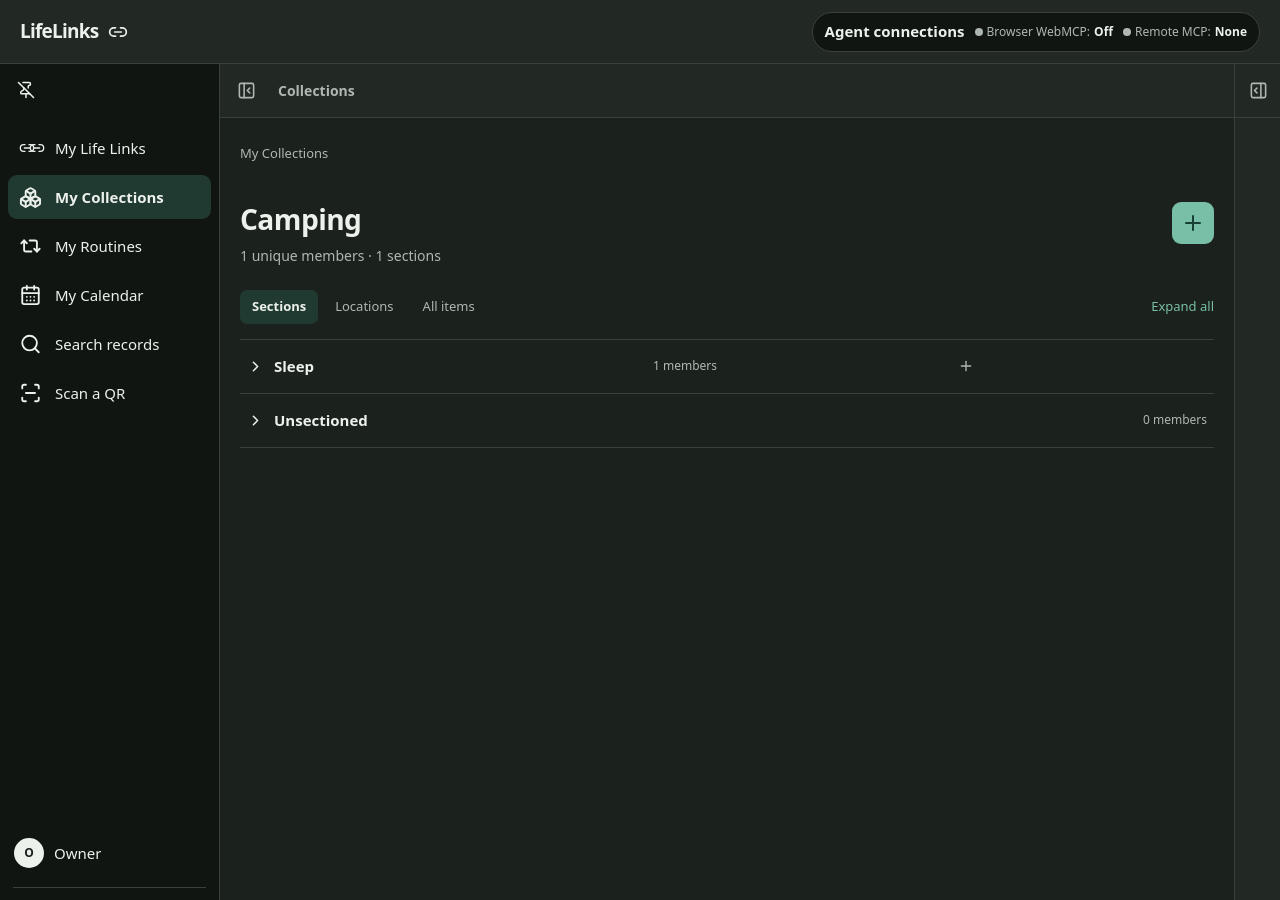
Scenario: Collection owner workspace › clears whole-membership selection when changing to a Section appearance view
Click the button "All items".
click(449, 307)  # box [411, 290, 487, 324]
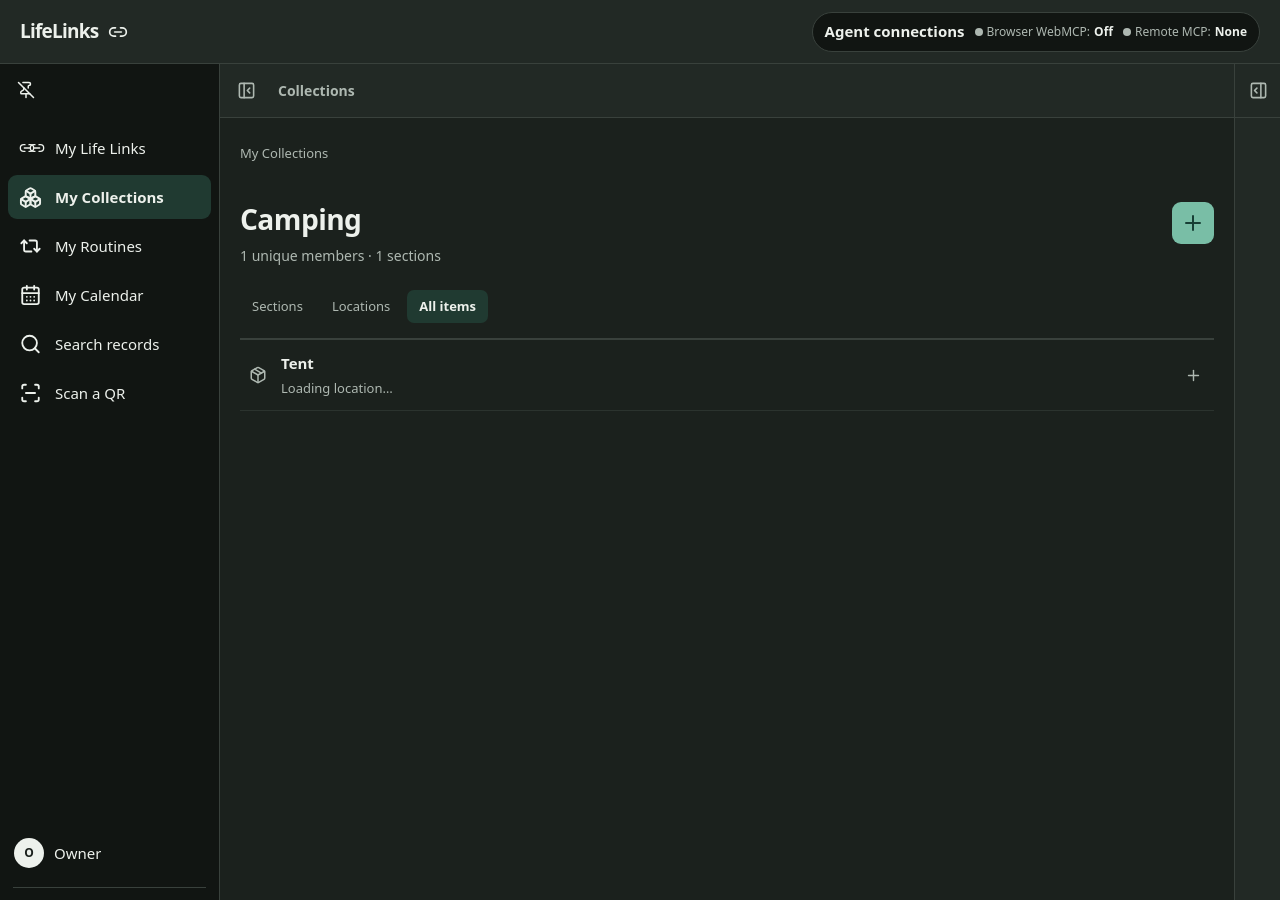
Click the button named "Add to Camping".
click(1193, 223)  # box [1172, 202, 1214, 244]
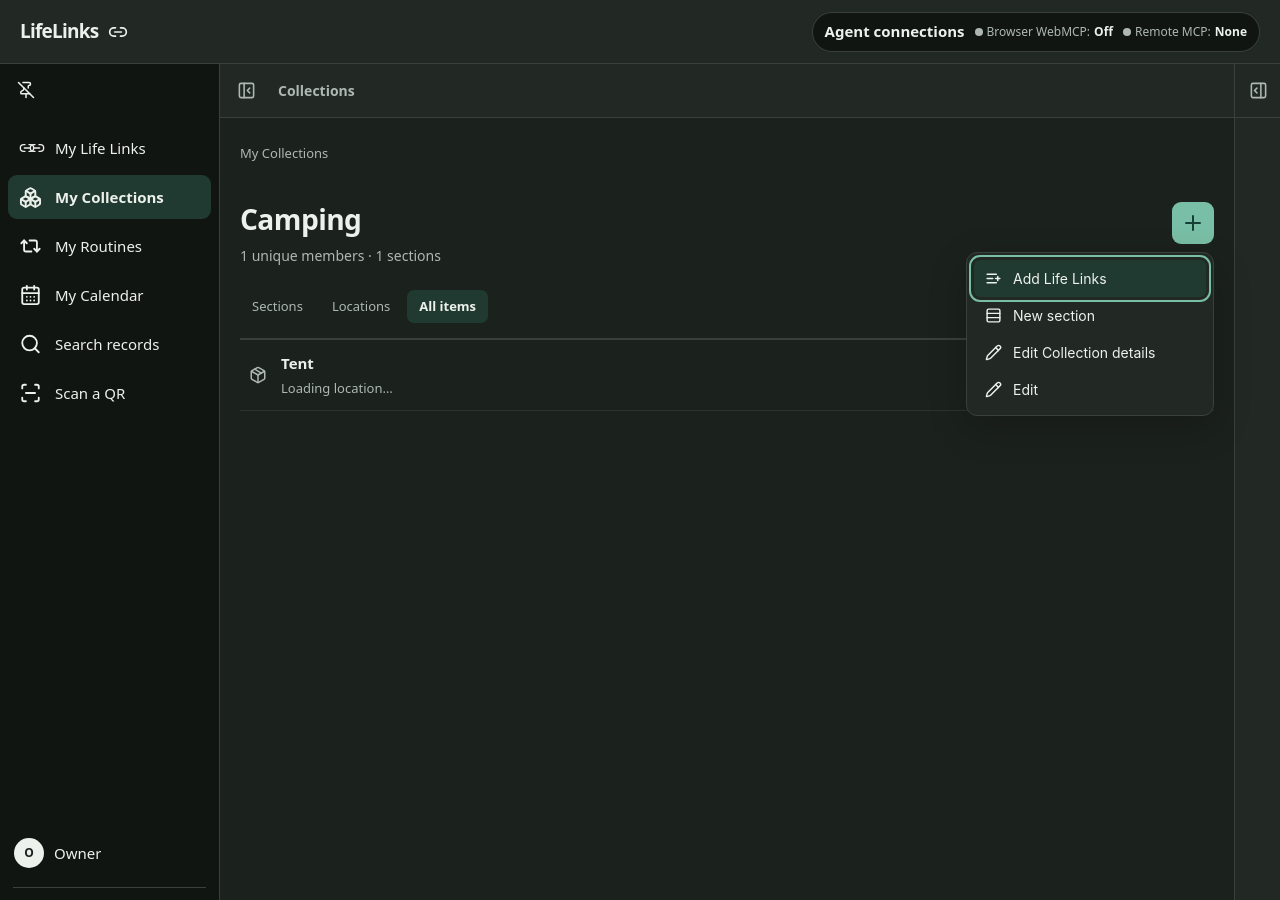
Now the menu item "Edit" is shown
Click the menu item "Edit".
click(1090, 390)  # box [974, 371, 1206, 408]
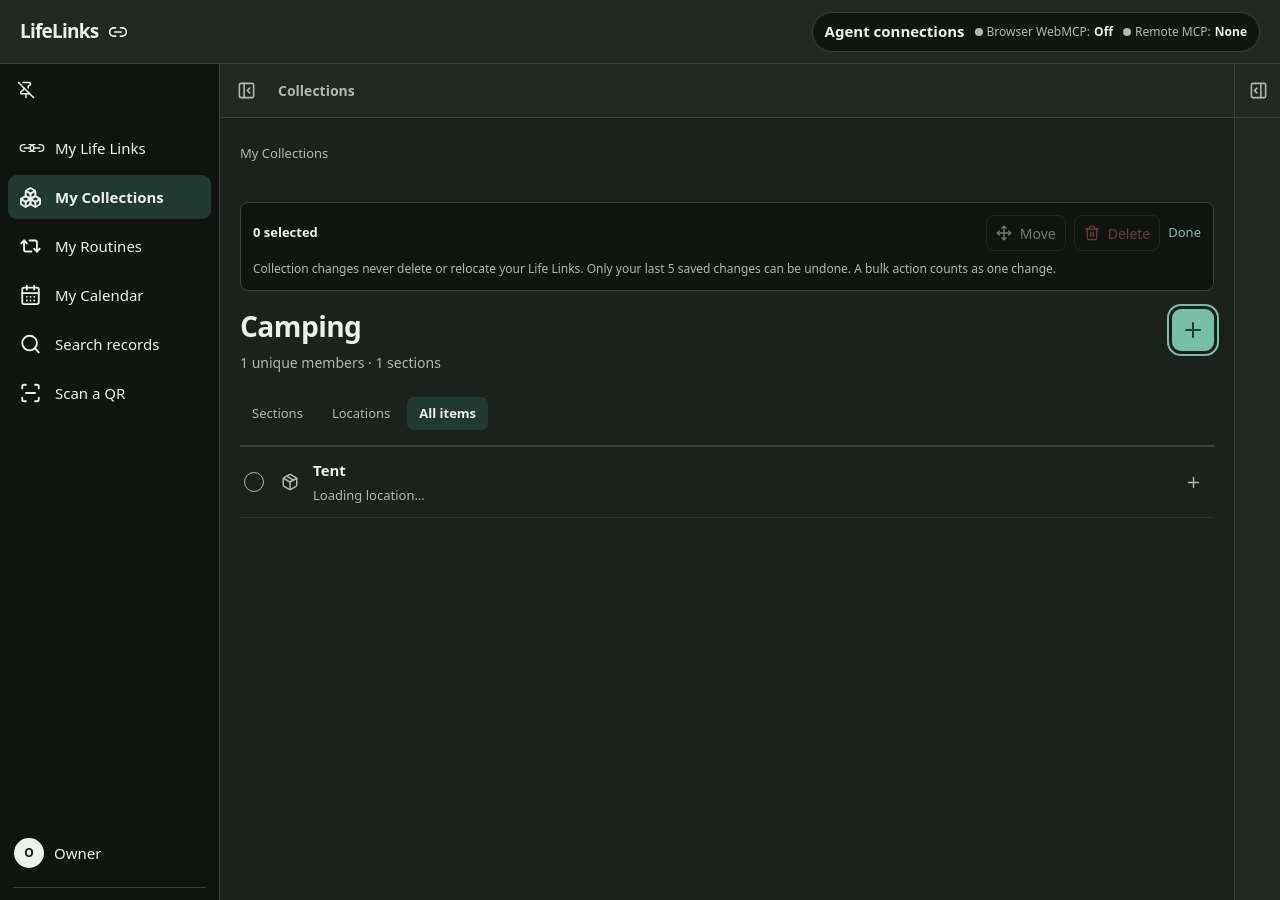
Click the checkbox named "Select Tent".
click(254, 482)  # box [244, 472, 264, 492]
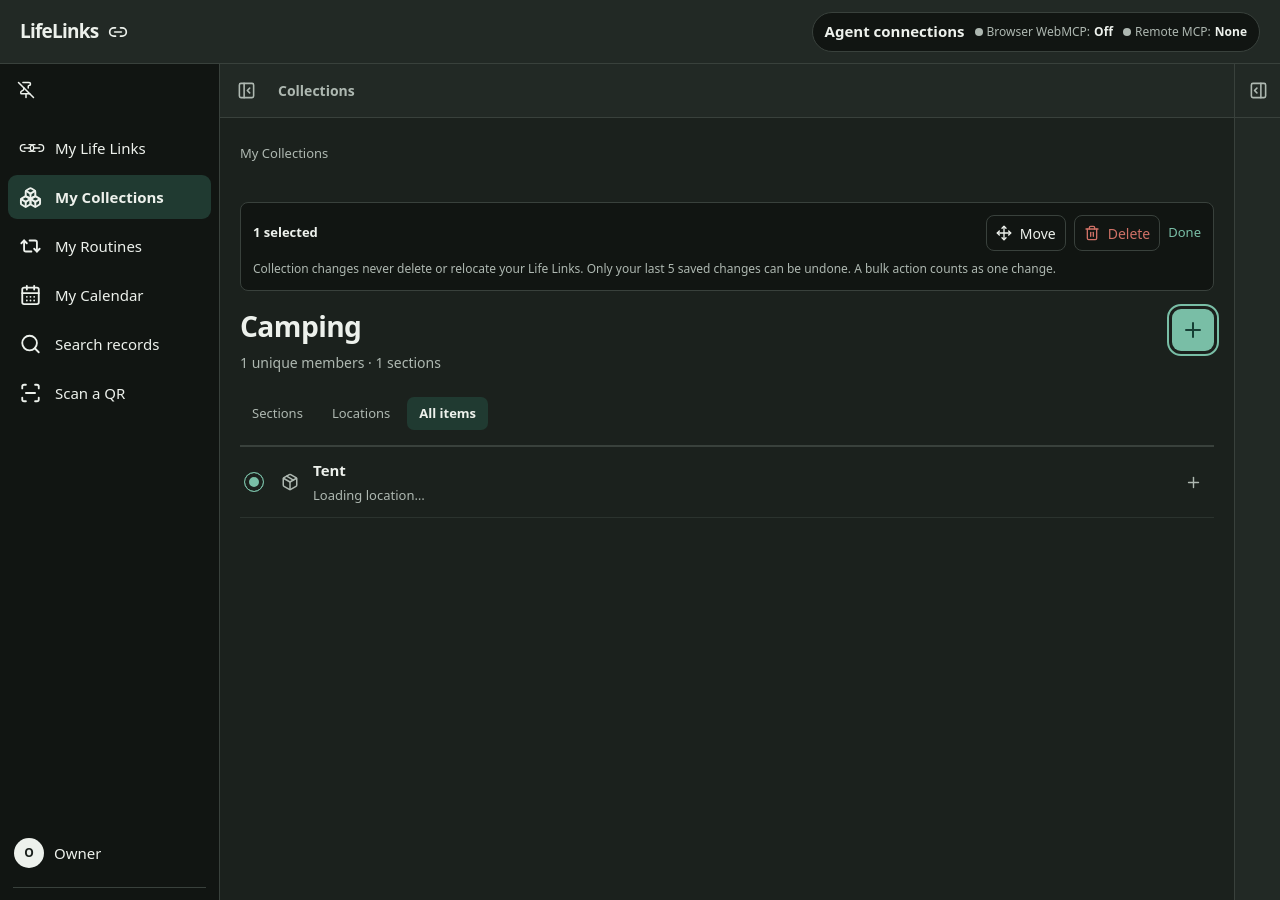
Now the button "Delete" is enabled, box [1074, 215, 1160, 251]
Click the button "Sections".
click(277, 414)  # box [240, 397, 315, 430]
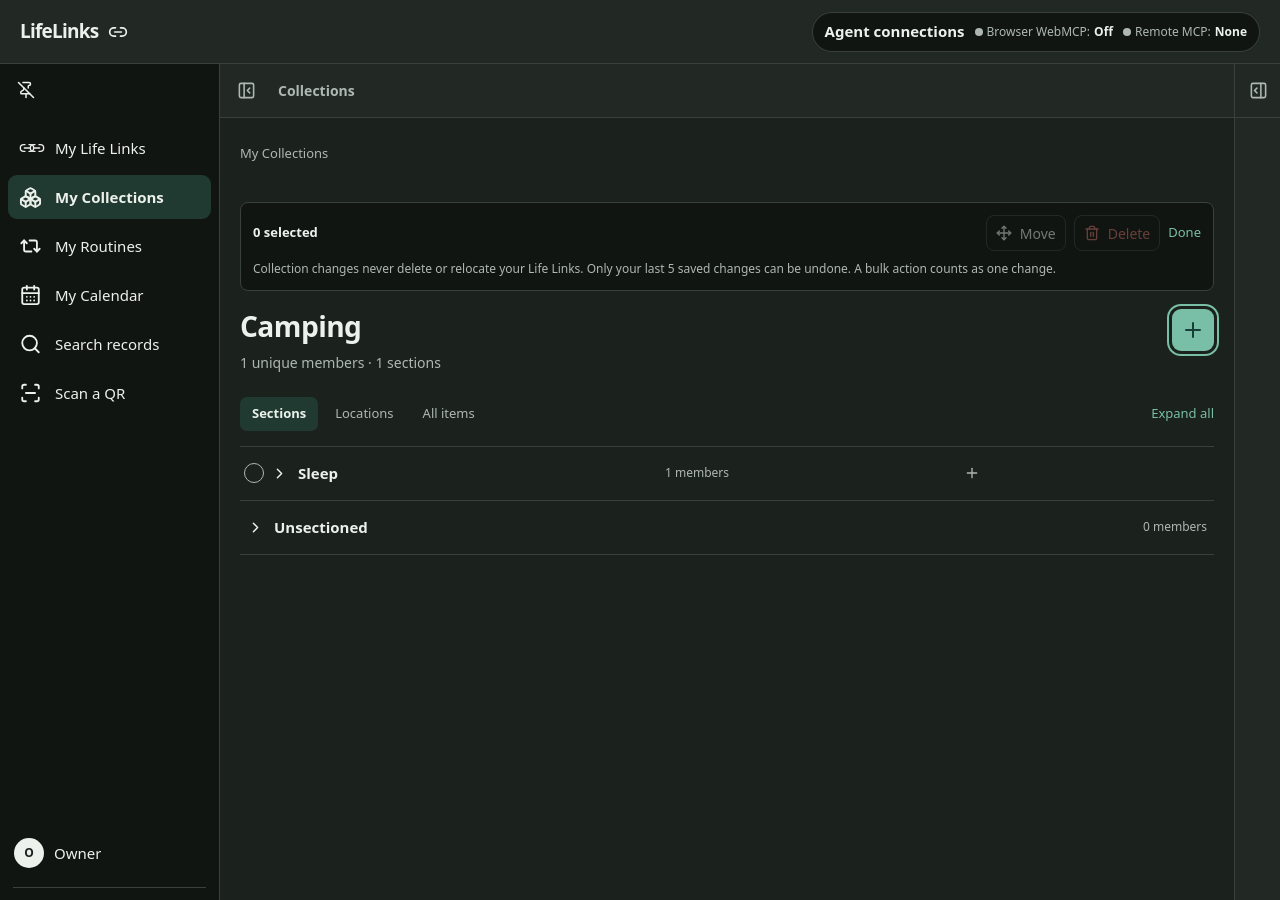
Now the element named "Edit Collections" shows "0 selected", box [253, 215, 1201, 251]
Now the button "Delete" is disabled, box [1074, 215, 1160, 251]
